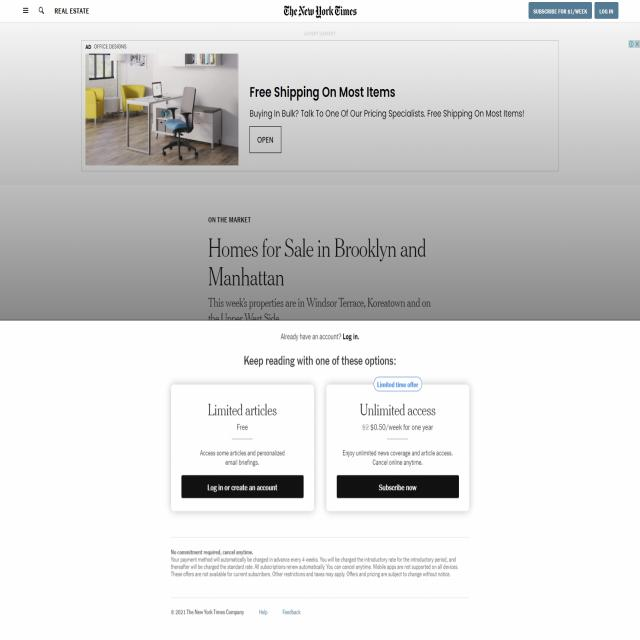menu-bar: (524, 1, 620, 21)
